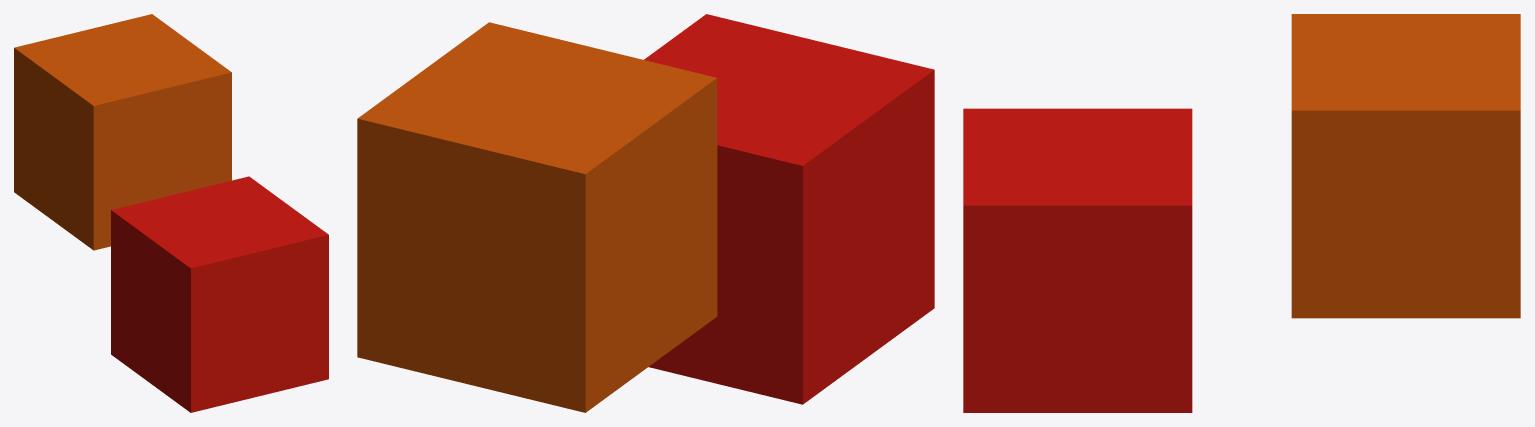
File: twoCubes.obj
3 renders of one model, left to right at view 1: azimuth 30°, elevation 25°; view 2: azimuth 150°, elevation 25°; view 3: azimuth 270°, elevation 25°, orthographic. The views are drawn at different scales.
Parts seen in each view (by area): view 1: Cube; view 2: Cube; view 3: Cube.
Boxes of the visible parts, <box> form: Cube: <box>14,14,328,412</box>; Cube: <box>357,14,934,412</box>; Cube: <box>963,14,1520,412</box>.
Bounding box in the file's own units: 2.25 × 3.03 × 4.87.
